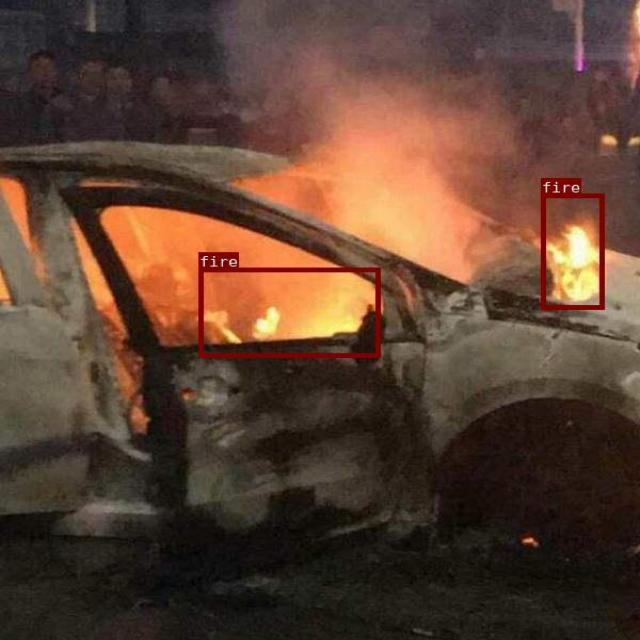fire: (198, 267, 379, 356), (540, 193, 603, 308)
